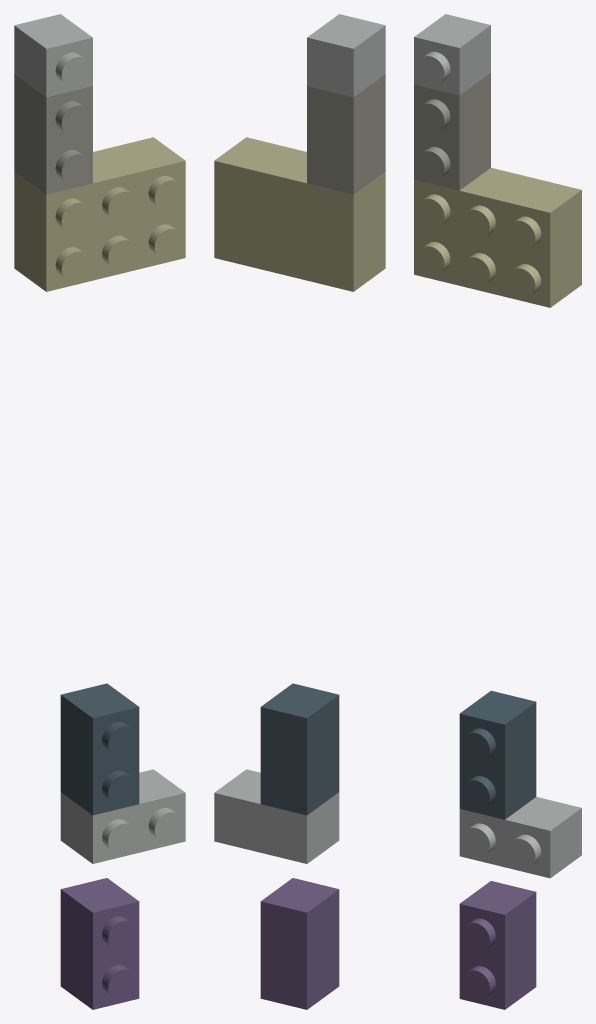
Rendered from current.glb.
3 renders of one model, left to right at view 1: azimuth 30°, elevation 25°; view 2: azimuth 150°, elevation 25°; view 3: azimuth 330°, elevation 25°, orthographic. The views are drawn at different scales.
Visible parts, largest first — view 1: world; view 2: world; view 3: world.
Part boxes in pixels (bbox=[...]): world: bbox=[14, 14, 185, 1009]; world: bbox=[214, 14, 385, 1009]; world: bbox=[414, 14, 581, 1009].
Bounding box in the file's own units: 24 × 160 × 11.4.
